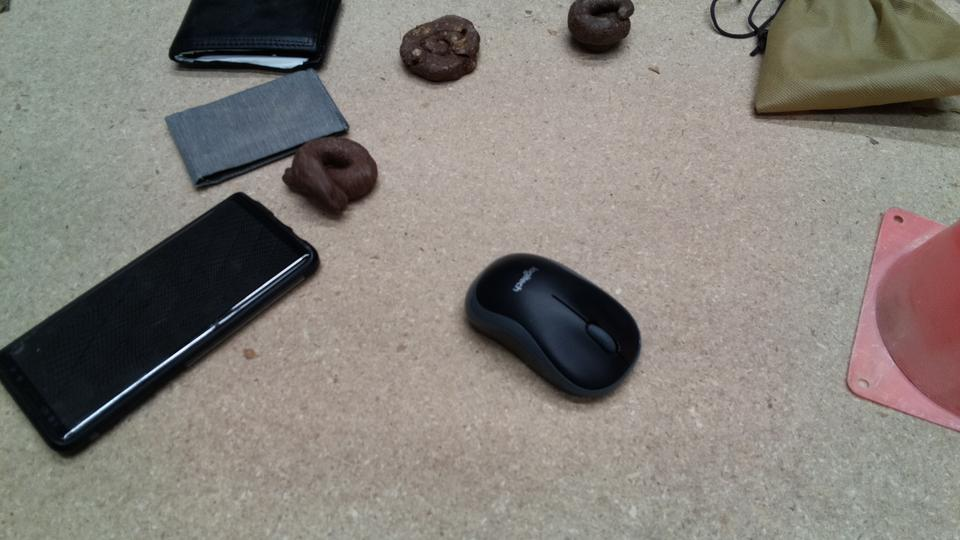poop: (280, 134, 381, 218), (399, 14, 483, 88), (564, 1, 636, 54)
